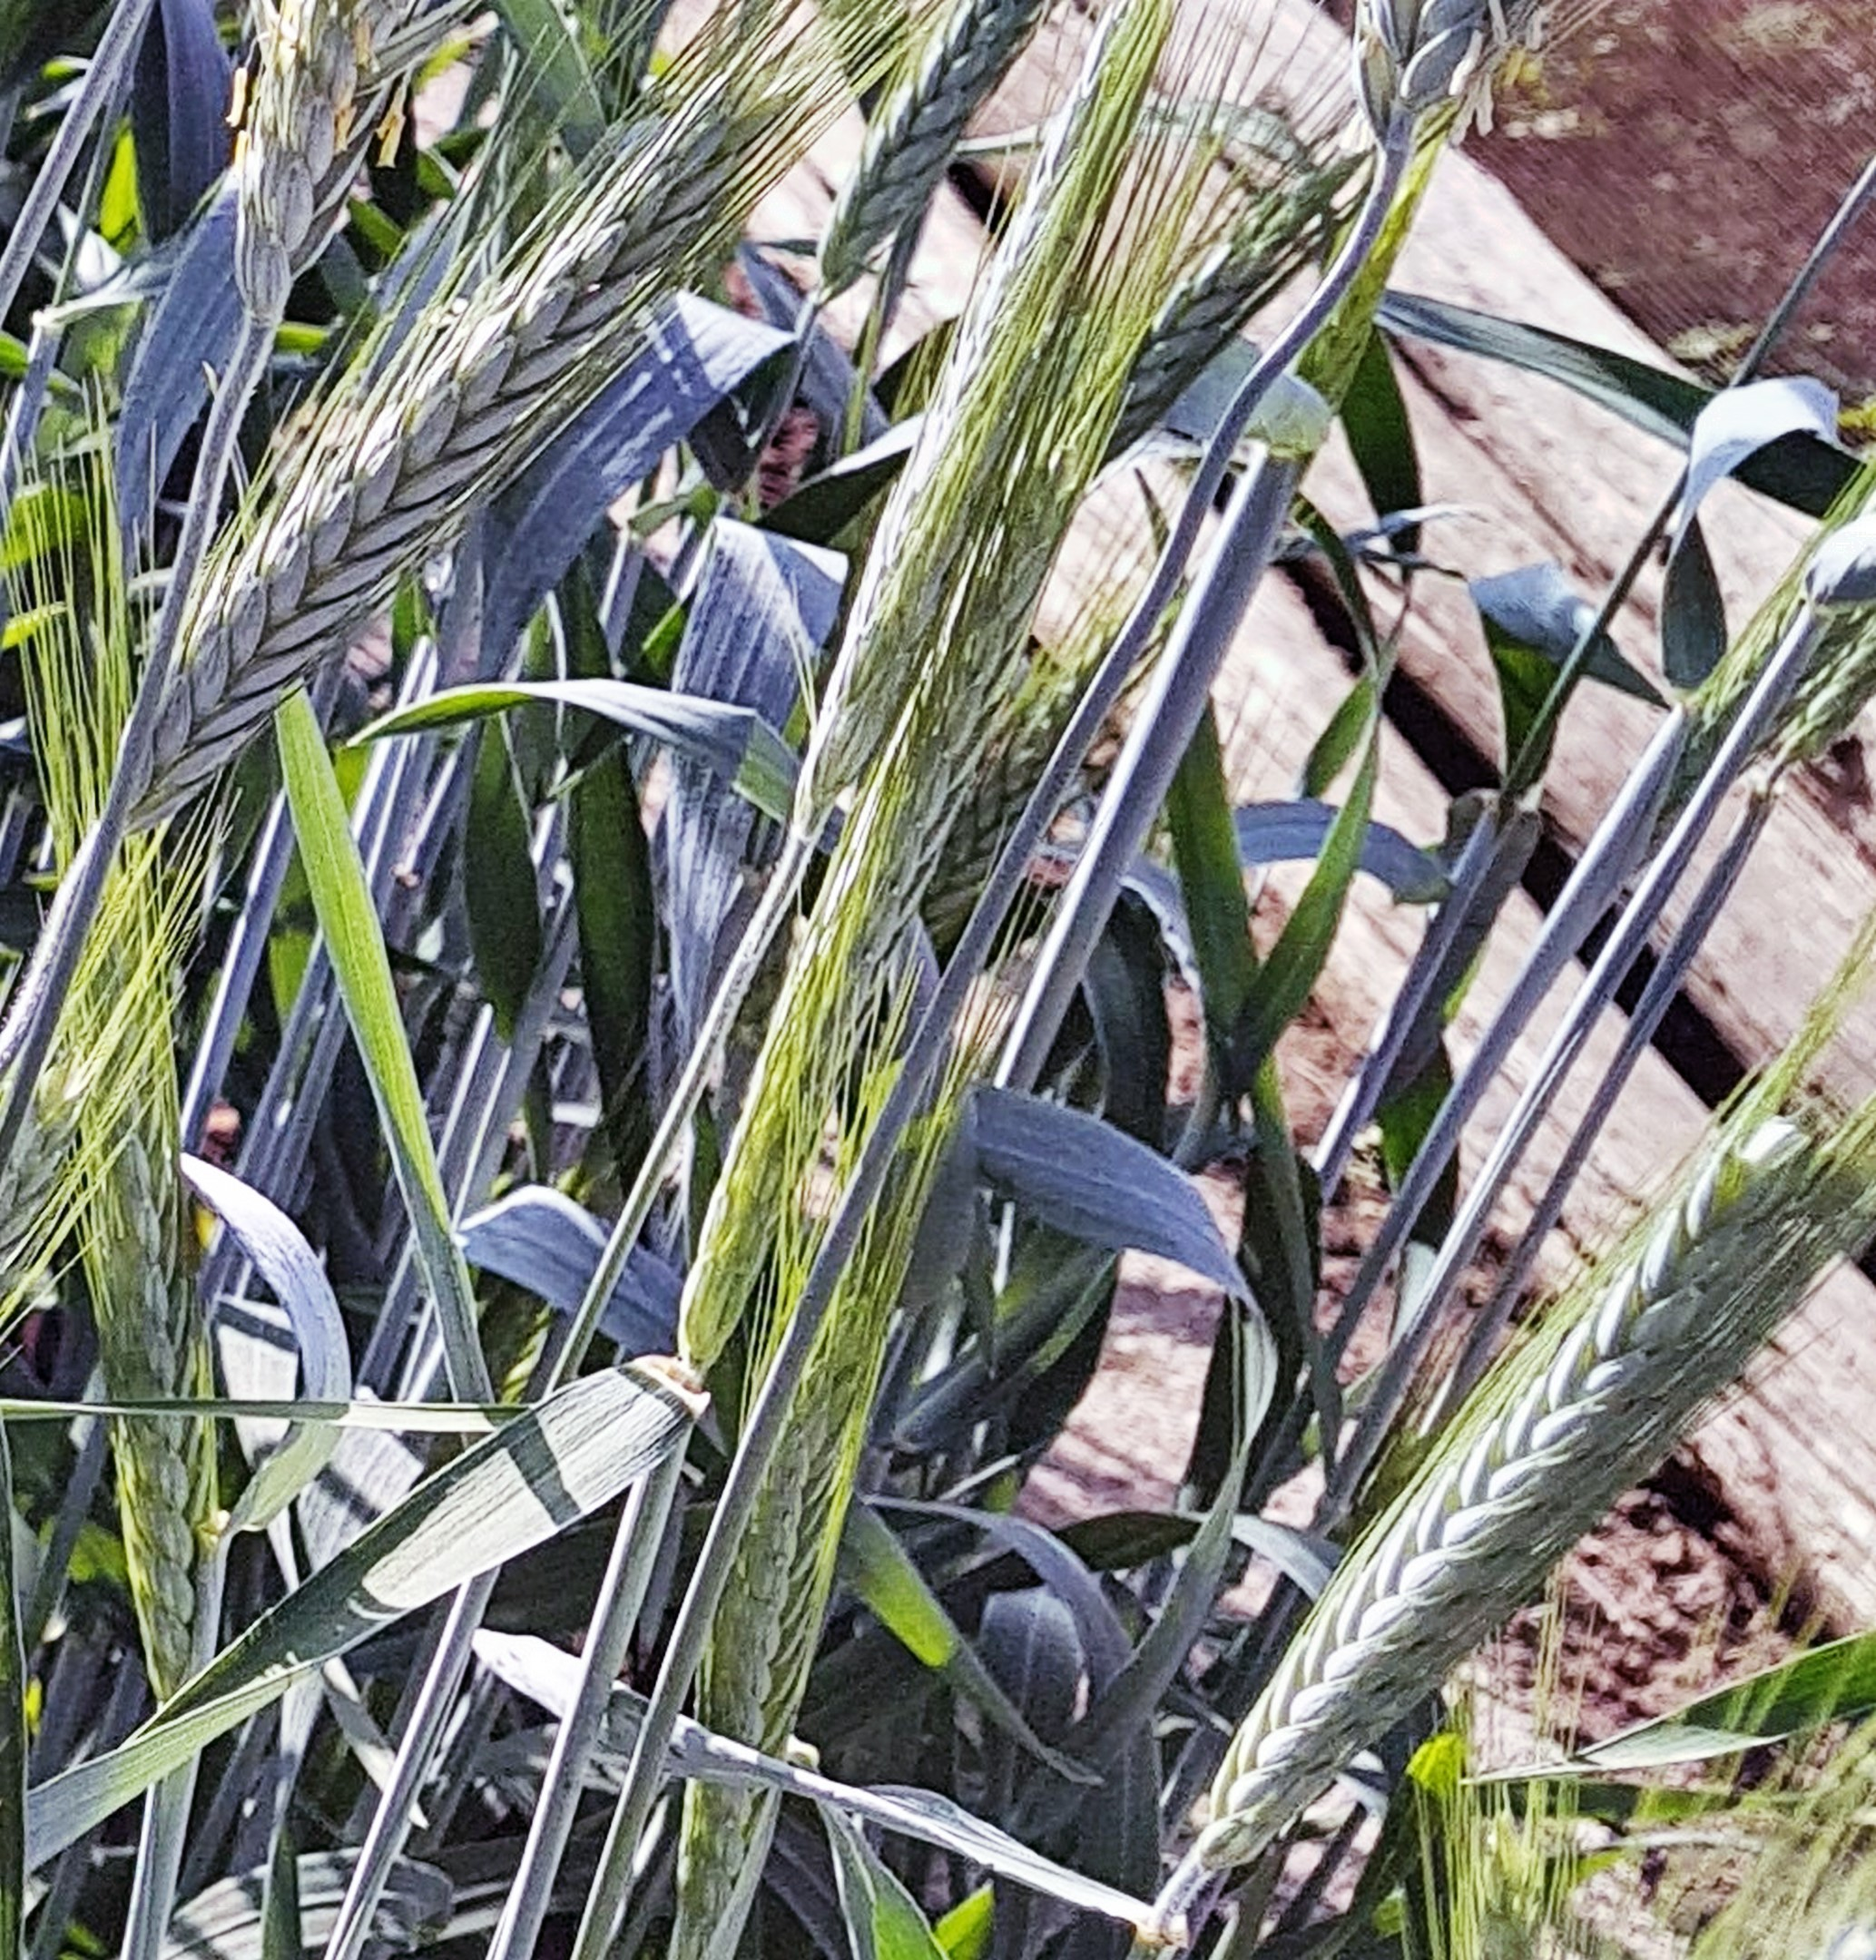Healthy Wheat: (1192, 1118, 1839, 1874), (136, 72, 773, 817)
